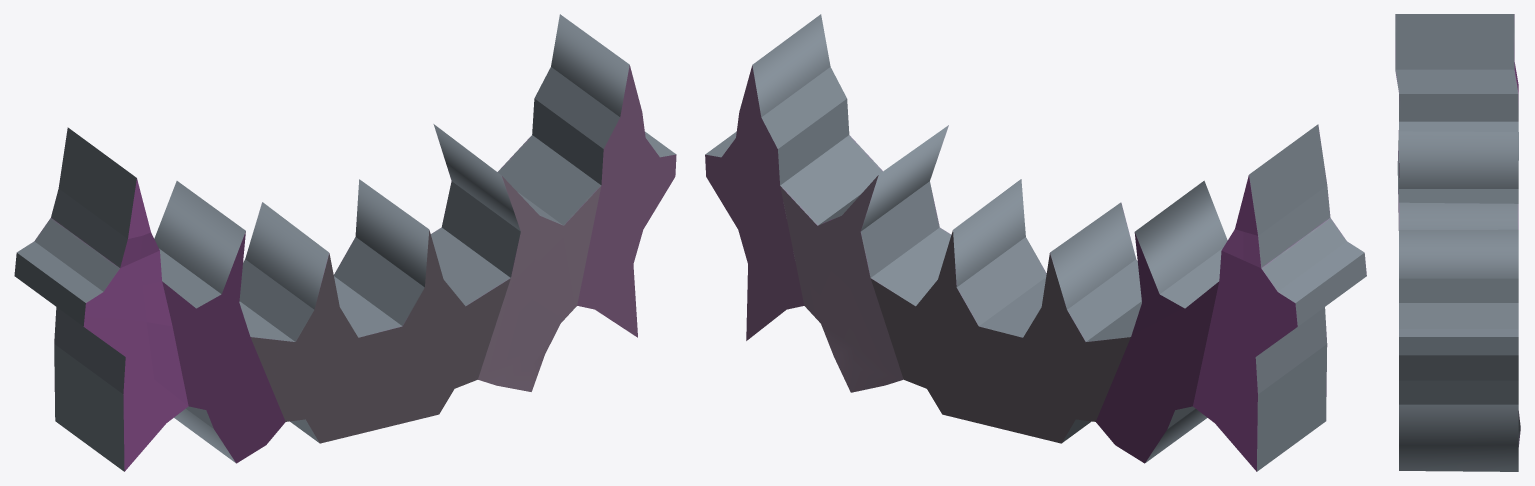
Rendered from Armor2.fbx.
3 views of the same model, side by side, from view 1: azimuth 30°, elevation 25°; view 2: azimuth 150°, elevation 25°; view 3: azimuth 270°, elevation 25° (orthographic). The views are drawn at different scales.
Visible parts, largest first — view 1: Middle3, Left1, Right4, Right5, Left2; view 2: Middle3, Left1, Right4, Right5, Left2; view 3: Right5, Left1, Left2, Middle3.
Boxes of the visible parts, x1,y1,x2,y2 form: Middle3: (239,179,510,443); Left1: (14,127,188,471); Right4: (433,124,601,391); Right5: (532,14,676,337); Left2: (154,181,285,463); Middle3: (870,179,1141,443); Left1: (1193,124,1366,471); Right4: (780,125,948,392); Right5: (705,14,849,340); Left2: (1096,180,1227,463); Right5: (1399,229,1518,471); Left1: (1395,14,1518,230); Left2: (1399,121,1518,203); Middle3: (1399,202,1518,229).
Size of the model in its own units: 3.9 by 1.97 by 0.831.
Materials: 1 (1 with a texture image).
